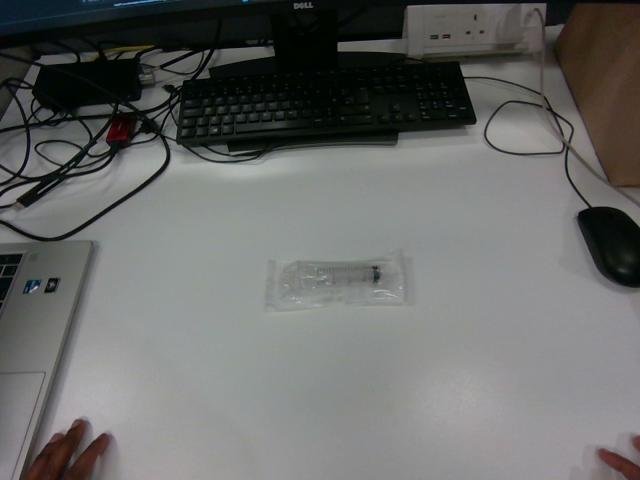syringe: (265, 252, 404, 311)
